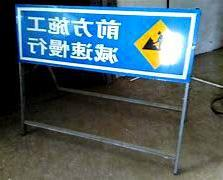sign: (18, 5, 200, 75)
